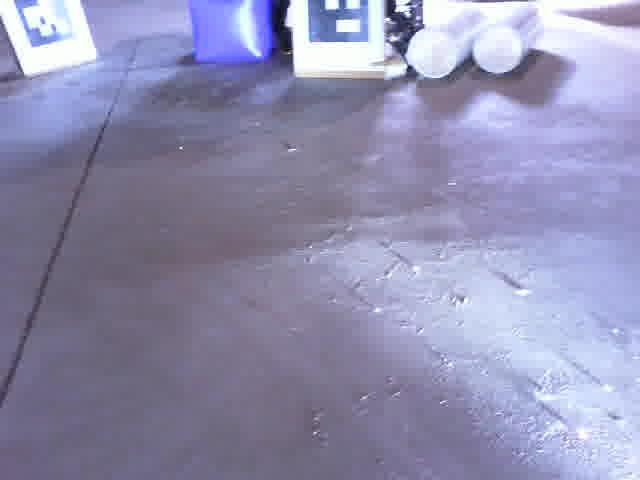coral: (409, 10, 488, 79), (474, 5, 546, 75)
